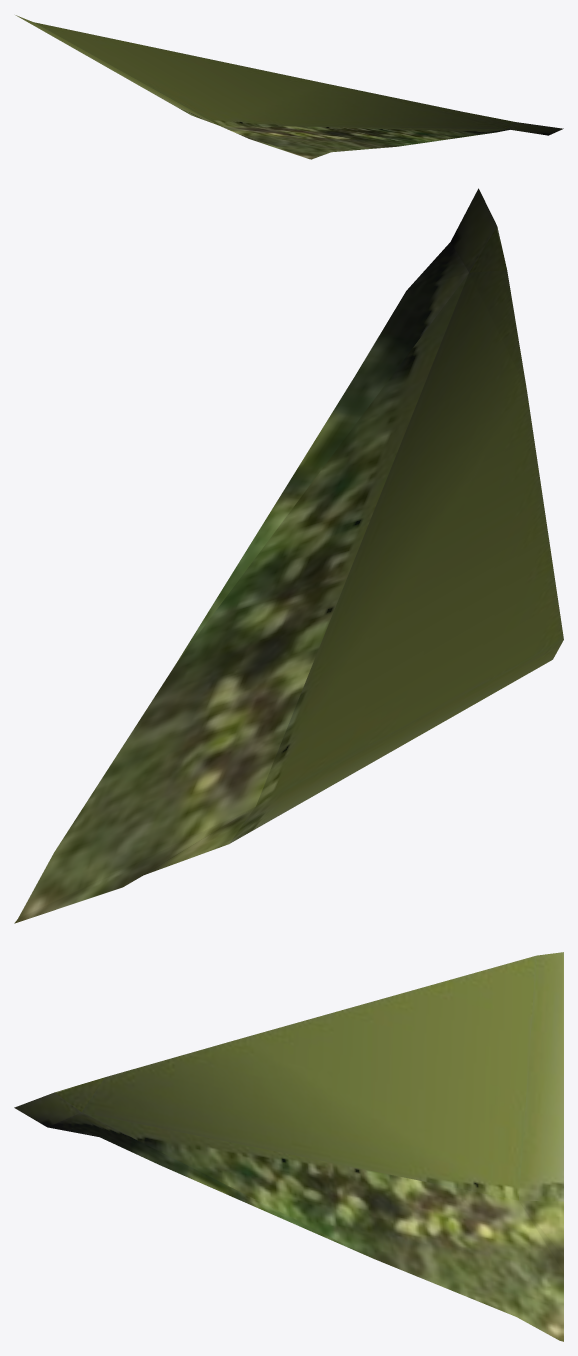
The picture shows the model from 3 angles, top to bottom: view 1: azimuth 30°, elevation 25°; view 2: azimuth 150°, elevation 25°; view 3: azimuth 270°, elevation 25°; orthographic projection. The views are drawn at different scales.
Size of the model in its own units: 1.56 by 1.09 by 2.33.
Materials: 1 (1 with a texture image).
